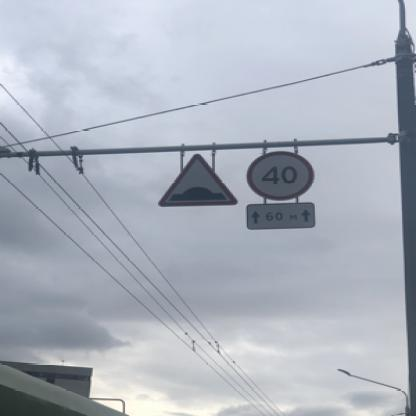speedlimit: (242, 150, 312, 200)
